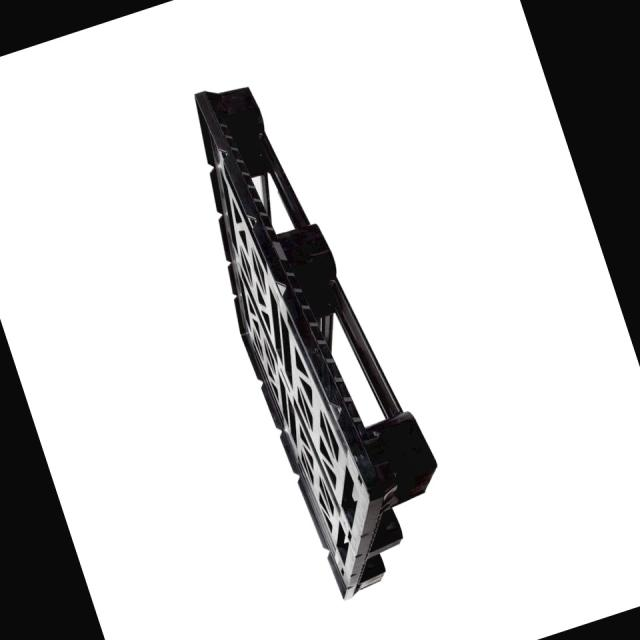non-igps: (188, 78, 444, 610)
